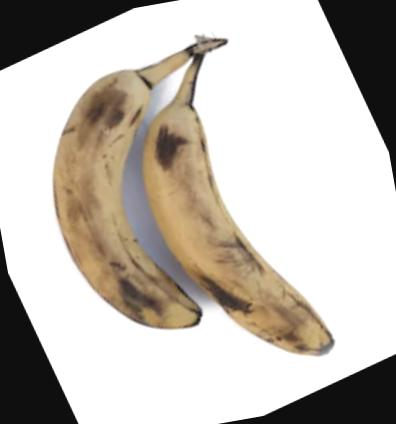Banana Overripe: (13, 0, 356, 418)
